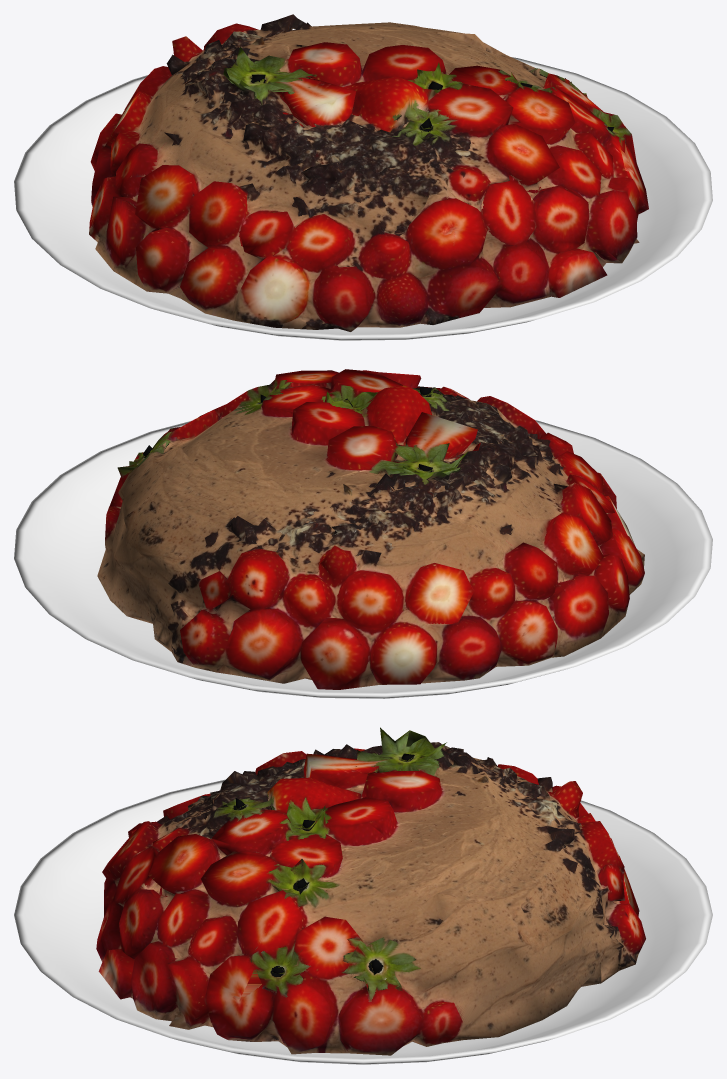
Rendered from choccake.glb.
3 renders of one model, top to bottom at view 1: azimuth 30°, elevation 25°; view 2: azimuth 150°, elevation 25°; view 3: azimuth 270°, elevation 25°, orthographic.
Visible parts, largest first — view 1: strawberry_chocolate_cake, Plate; view 2: strawberry_chocolate_cake, Plate; view 3: strawberry_chocolate_cake, Plate.
Boxes of the visible parts, x1,y1,x2,y2 form: strawberry_chocolate_cake: (89,14,648,331); Plate: (14,57,712,340); strawberry_chocolate_cake: (97,369,644,689); Plate: (14,420,712,698); strawberry_chocolate_cake: (96,727,645,1055); Plate: (14,779,712,1064).
Bounding box in the file's own units: 0.3045 × 0.0914 × 0.3045.
Materials: 2 (1 with a texture image).
